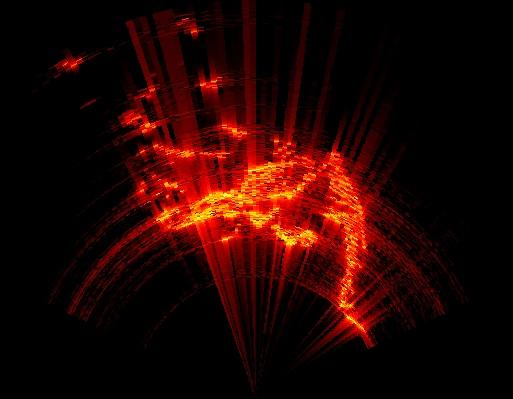shipwreck: (156, 157, 366, 333), (157, 146, 213, 164), (149, 175, 184, 200)
